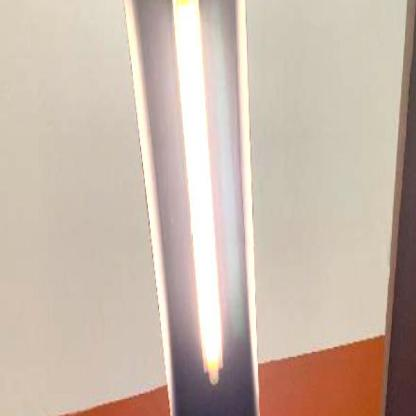light_on: (158, 0, 231, 406)
